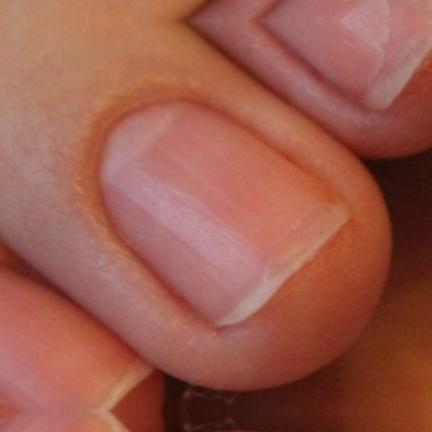Nail: (100, 100, 350, 325)
